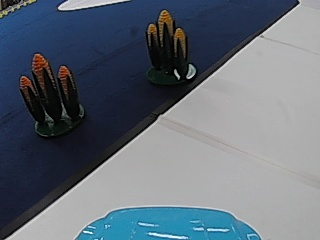corn: (17, 50, 87, 136), (142, 6, 195, 85)
